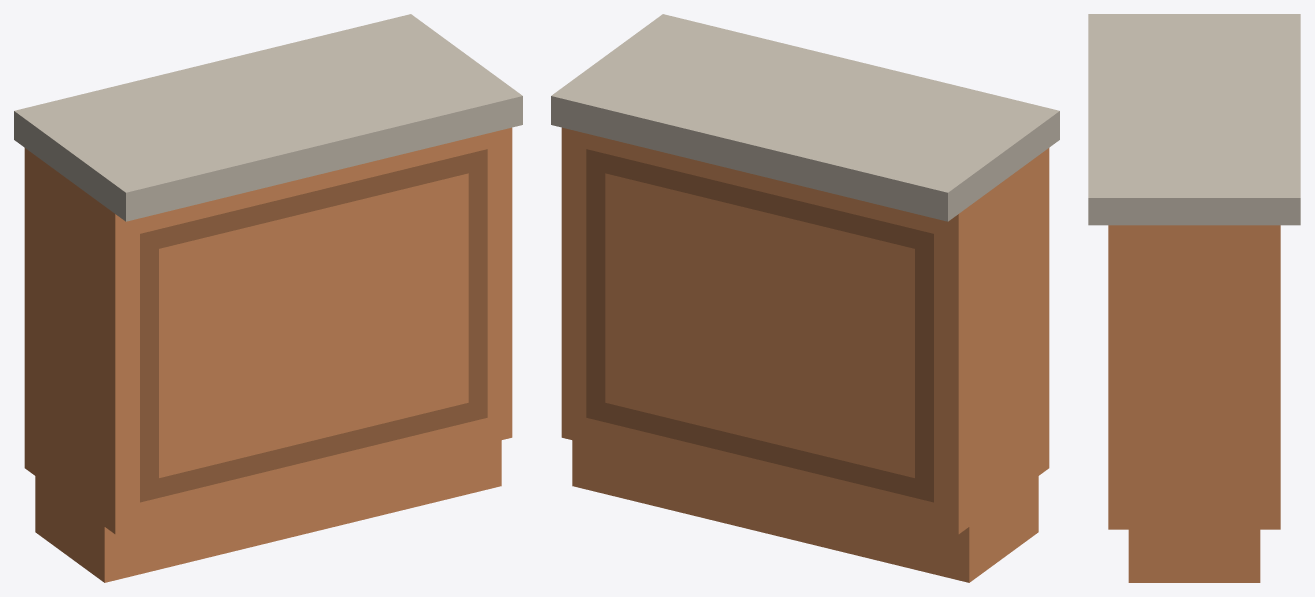
File: kitchenBar.glb
3 renders of one model, left to right at view 1: azimuth 30°, elevation 25°; view 2: azimuth 150°, elevation 25°; view 3: azimuth 270°, elevation 25°, orthographic. The views are drawn at different scales.
Visible parts, largest first — view 1: kitchenBar; view 2: kitchenBar; view 3: kitchenBar.
Boxes of the visible parts, bbox=[...] form: kitchenBar: bbox=[14, 14, 522, 582]; kitchenBar: bbox=[551, 14, 1059, 582]; kitchenBar: bbox=[1088, 14, 1300, 582].
Size of the model in its own units: 0.86 by 0.84 by 0.42.
